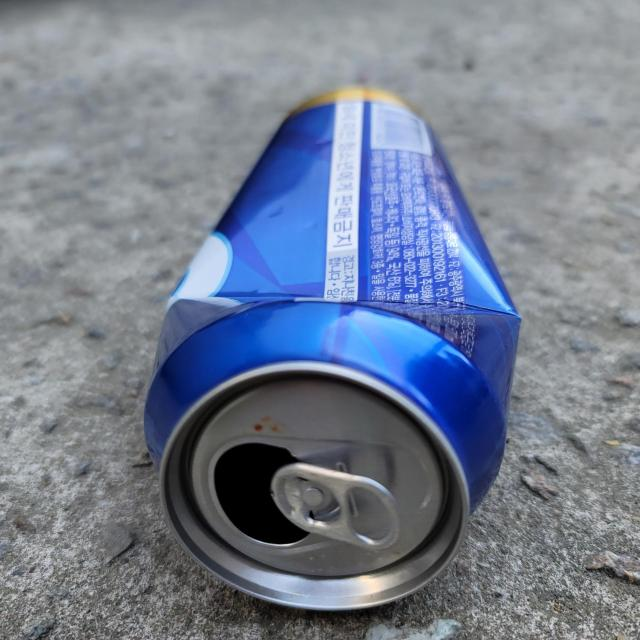can: (144, 89, 521, 611)
